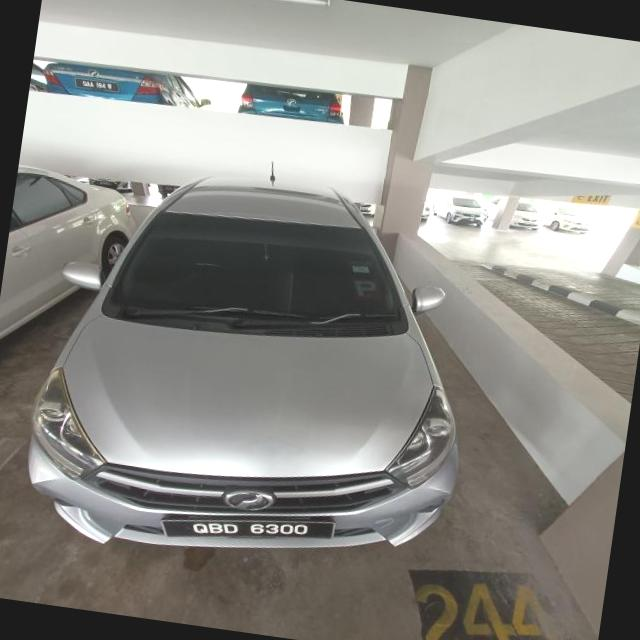PeroduaAxia: (14, 142, 498, 592)
